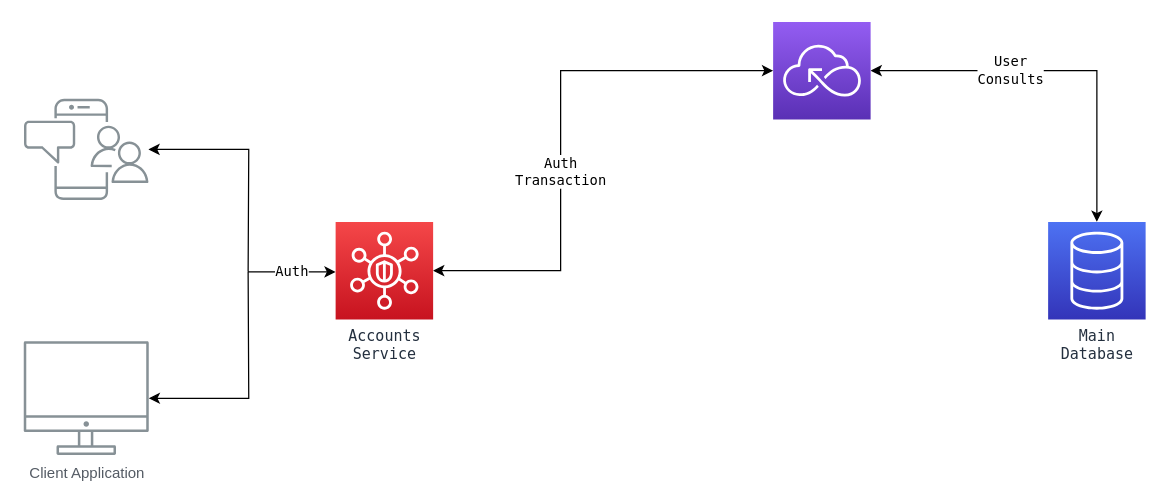
Some shapes in this 1168 by 503 pixel diagram are drawn without their labels. The box of each missing label's shape, as (x1, y1, x2, y2) in pixels:
Mobile Applicantion: (23, 98, 148, 199)
Serverless API Accounts: (772, 21, 871, 119)
